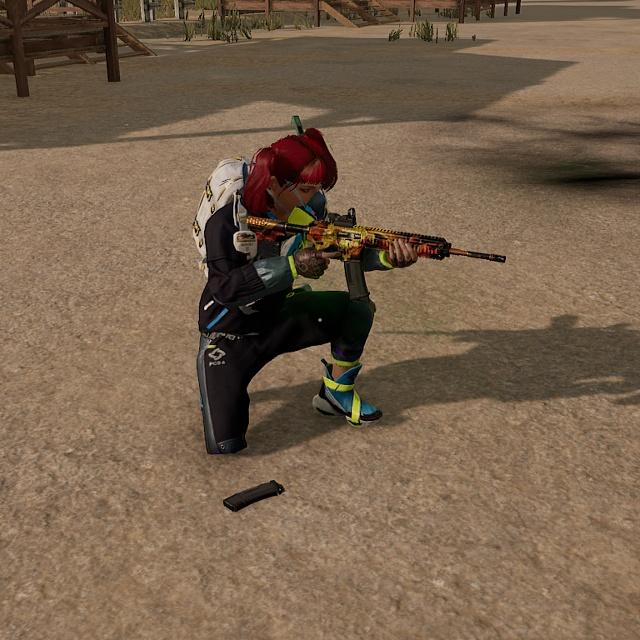head: (263, 123, 334, 214)
people: (178, 122, 396, 464)
